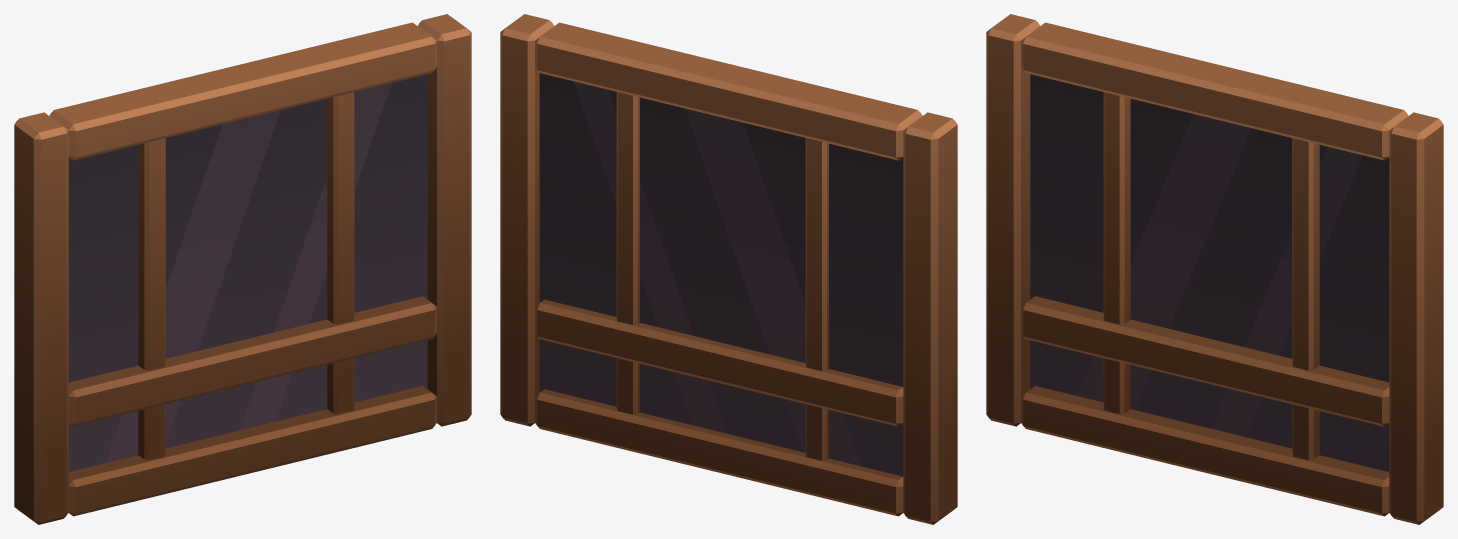
File: sp_build_prop_window_03.fbx
3 views of the same model, side by side, from view 1: azimuth 30°, elevation 25°; view 2: azimuth 150°, elevation 25°; view 3: azimuth 330°, elevation 25° (orthographic).
Parts seen in each view (by area): view 1: build_prop_window_03; view 2: build_prop_window_03; view 3: build_prop_window_03.
Boxes of the visible parts, x1,y1,x2,y2 form: build_prop_window_03: (14, 14, 471, 524); build_prop_window_03: (500, 14, 957, 524); build_prop_window_03: (986, 14, 1443, 524).
Size of the model in its own units: 187 by 160 by 18.52.
